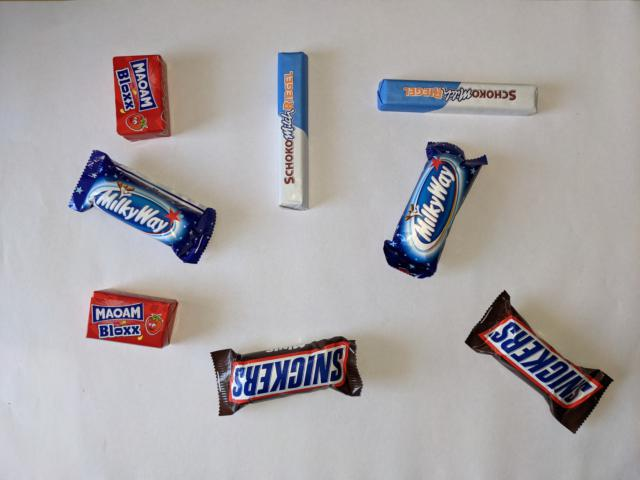MAOAM: (84, 288, 180, 350), (110, 53, 173, 143)
MilkyWay: (62, 147, 218, 265), (381, 141, 490, 281)
Schokoriegel: (373, 76, 540, 117), (274, 50, 312, 214)
Snickers: (462, 287, 616, 437), (208, 334, 365, 418)
